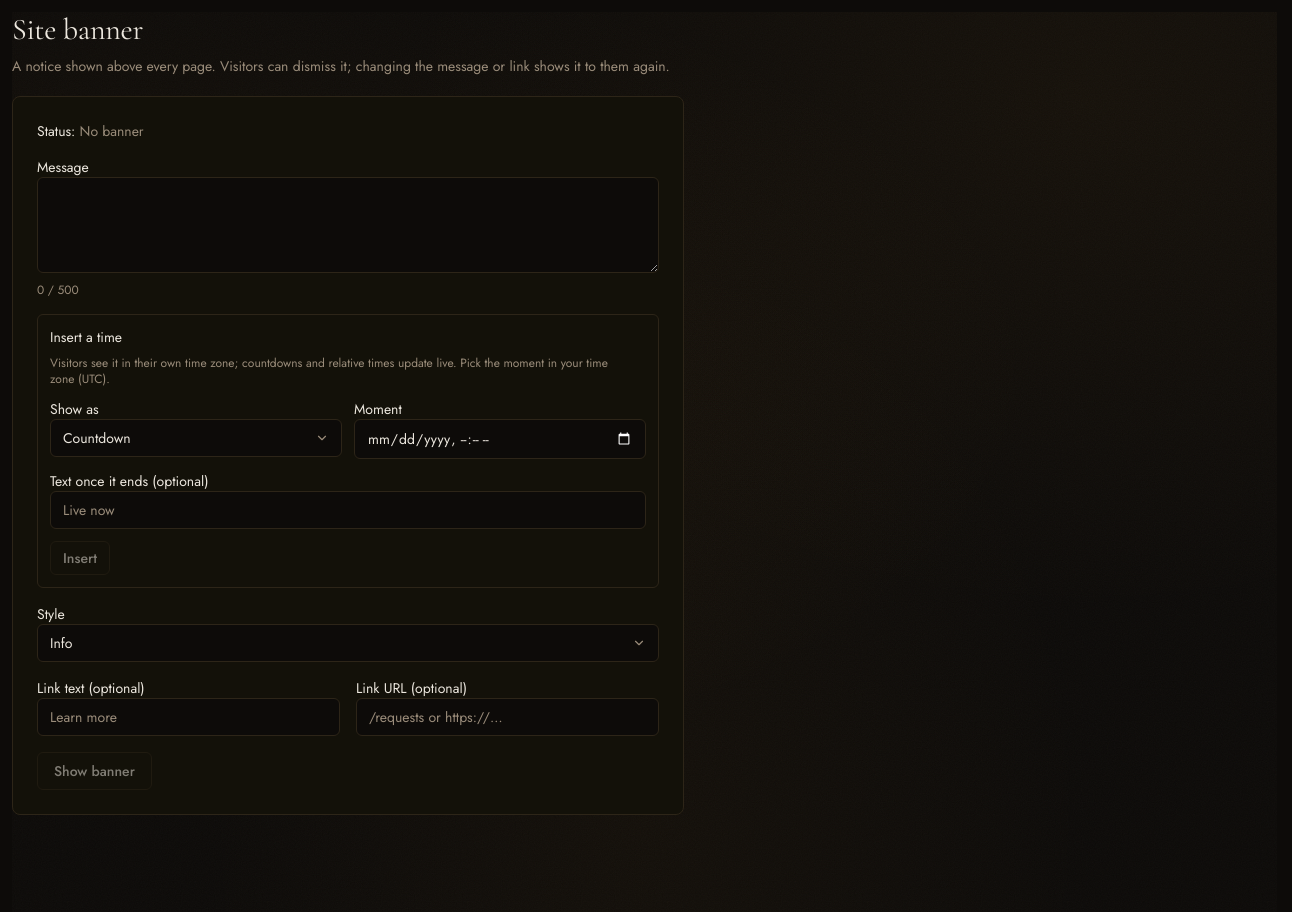
Test: inserts a time placeholder into the banner message
The width and height of the screenshot is (1292, 912).
Expected: the text "No banner" is shown, [80,121,144,141]
Type "Live in " into the text box labelled "Message" at (348,225), box [37,177,659,273]
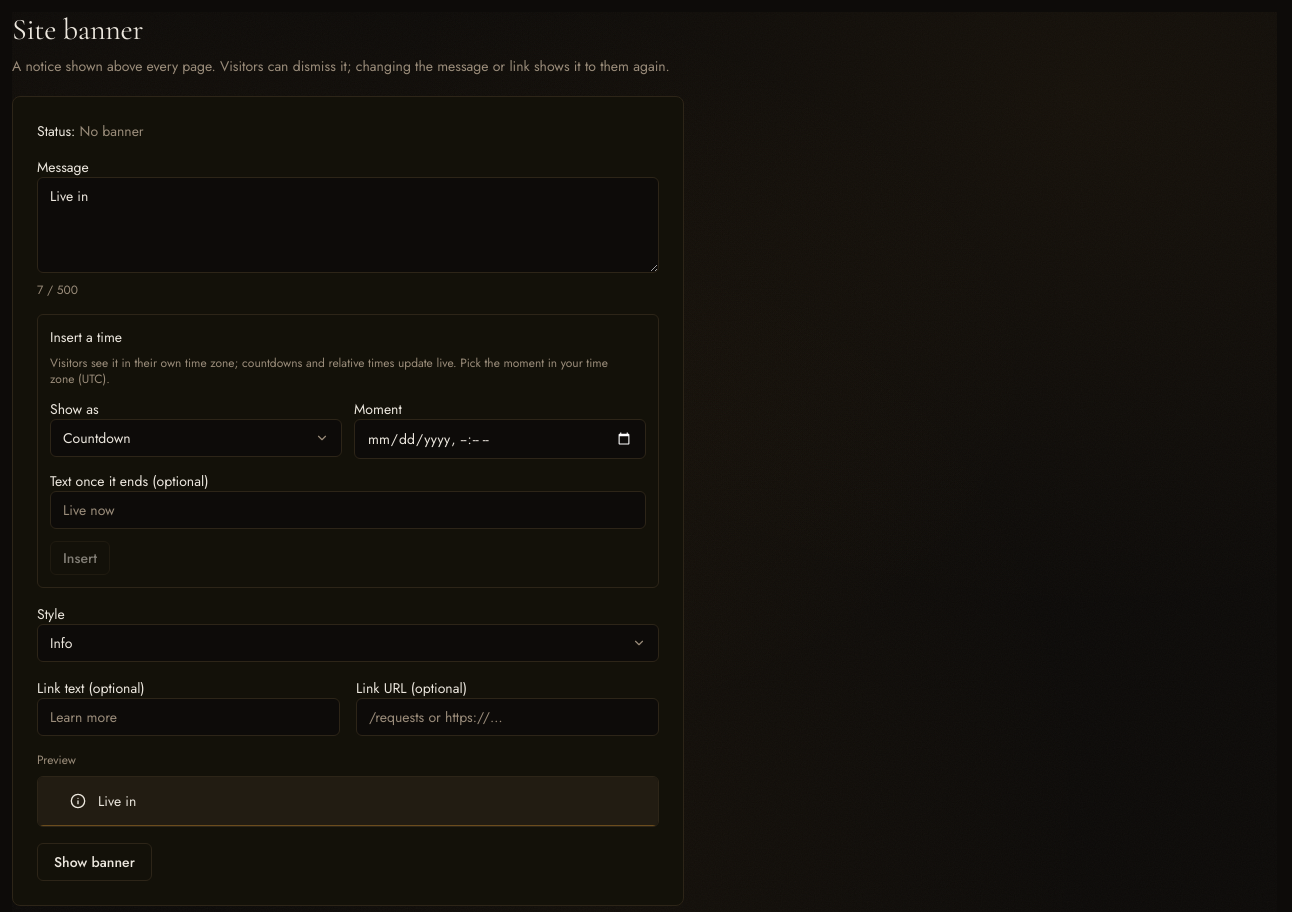
Expected: the button "Insert" is disabled, [50,541,110,575]
Type "2026-10-20T18:00" into the field labelled "Moment" at (500,439), box [354,419,646,459]
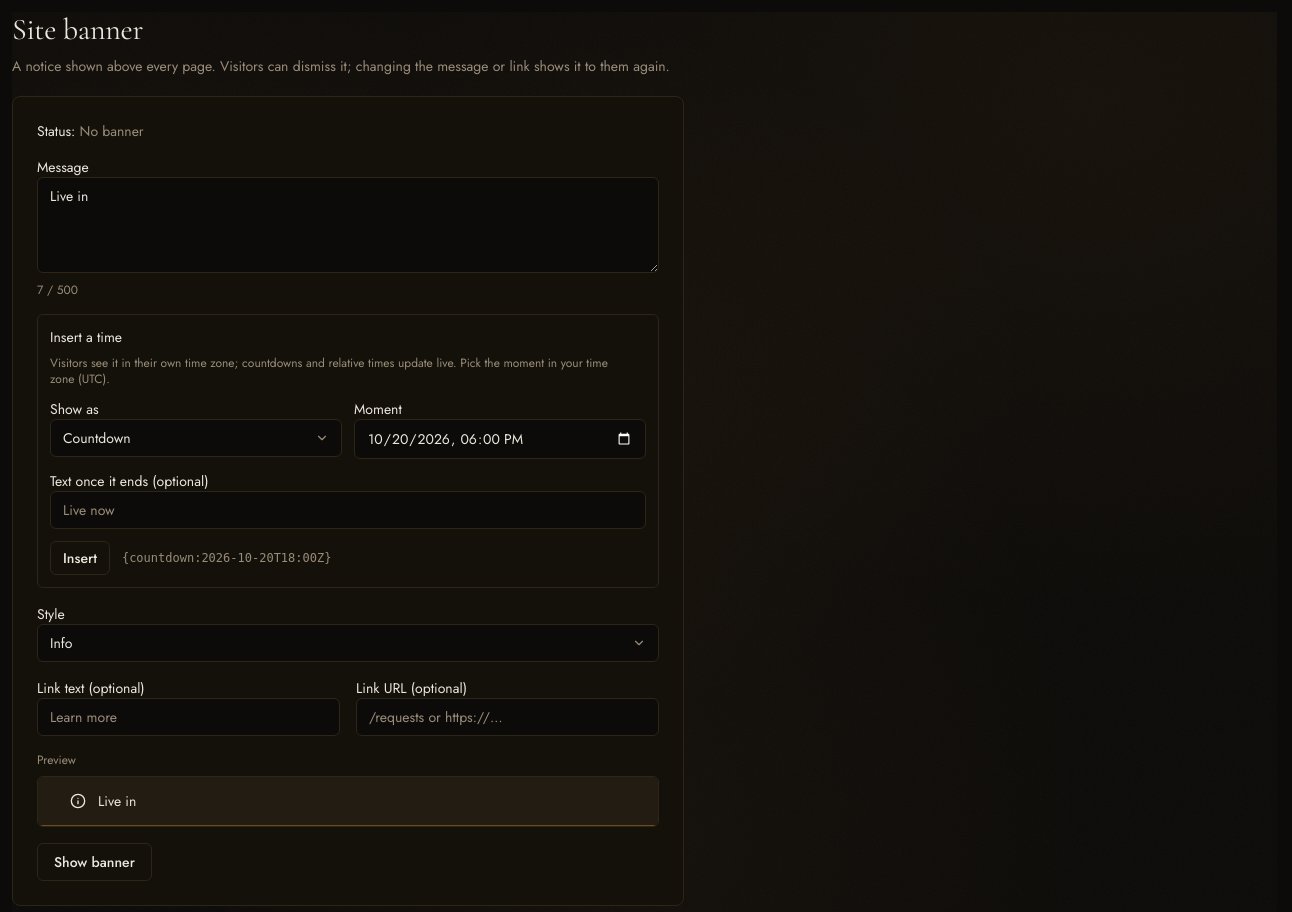
Type "now" into the field labelled "Text once it ends (optional)" at (348,510), box [50,491,646,529]
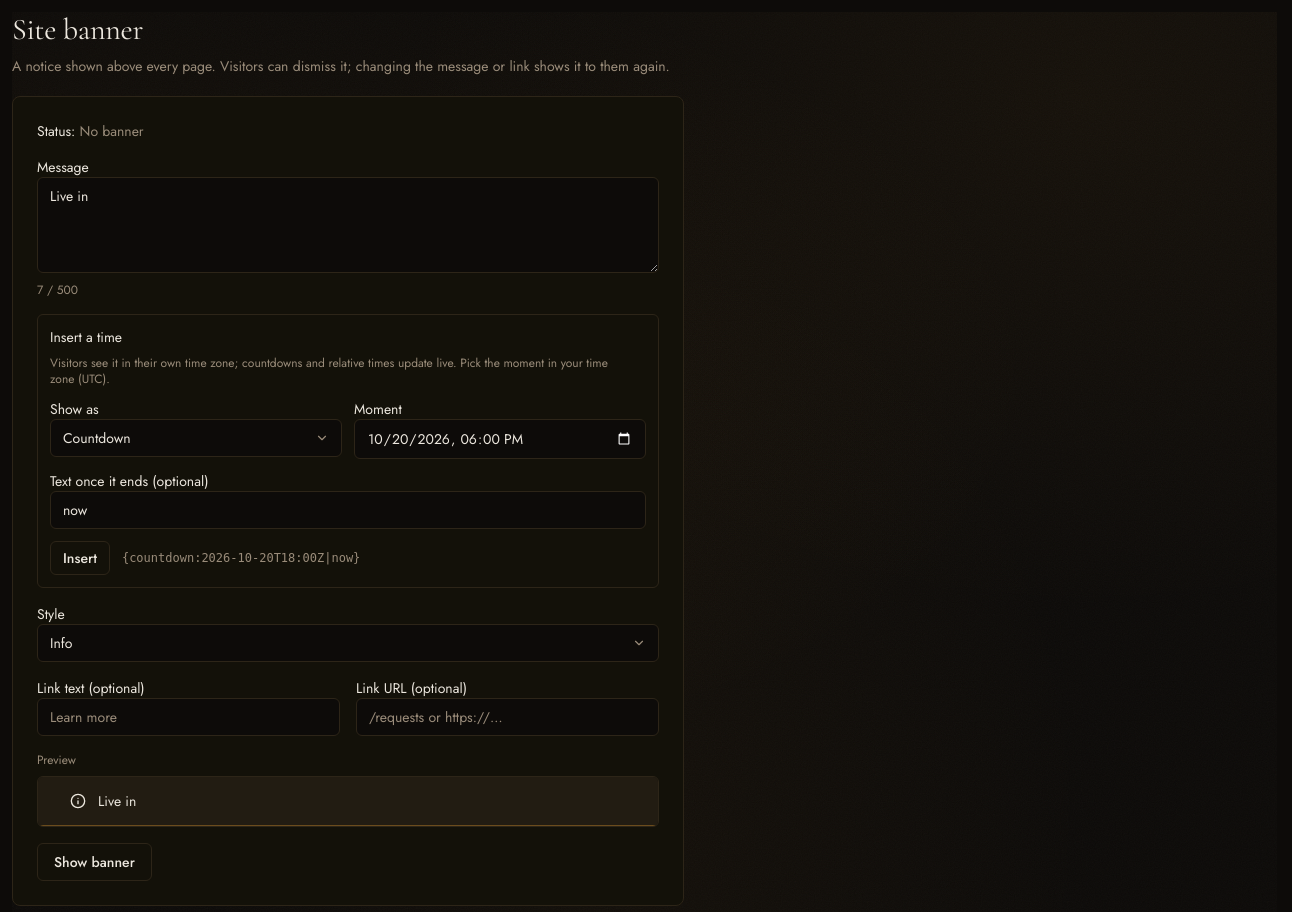
Click the button "Insert" at (80,558), box [50,541,110,575]
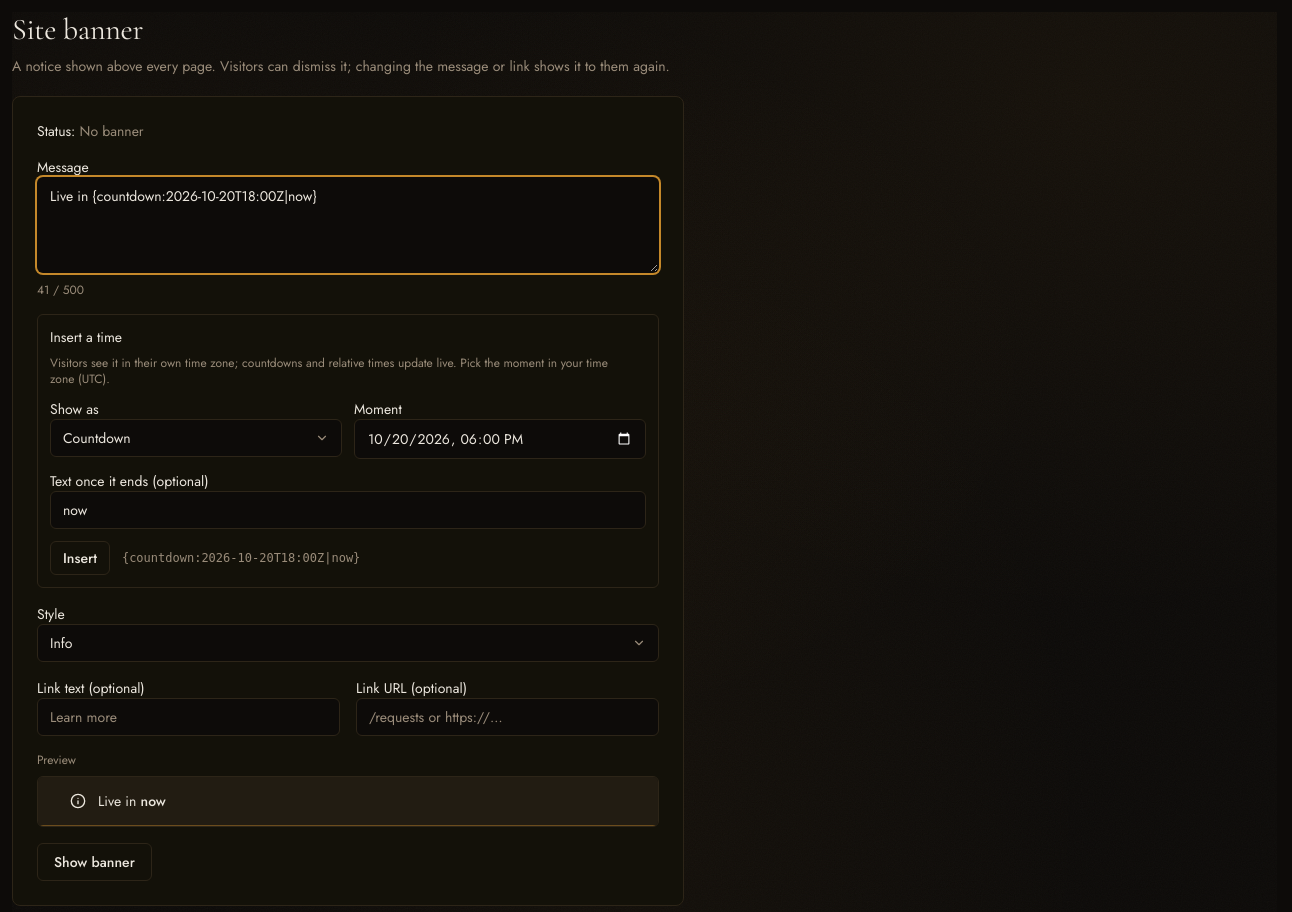
Expected: the text "now" is shown, [140,791,166,811]
